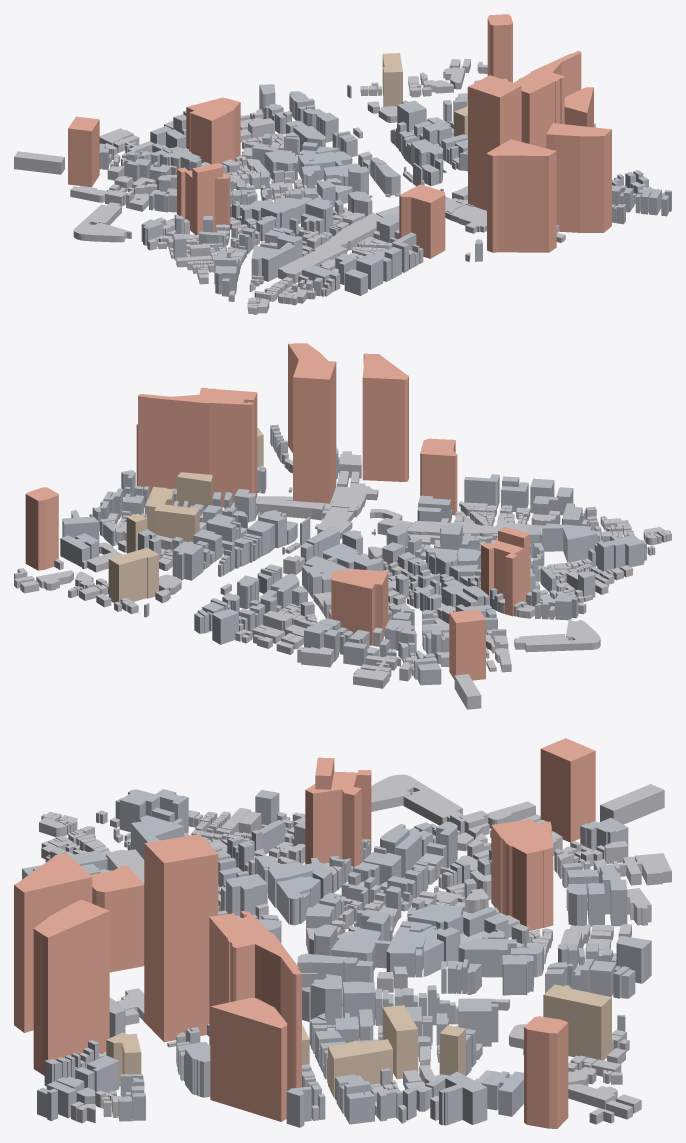
File: shibuya_buildings.glb
3 views of the same model, one above another, from view 1: azimuth 30°, elevation 25°; view 2: azimuth 150°, elevation 25°; view 3: azimuth 270°, elevation 25° (orthographic). The views are drawn at different scales.
Parts seen in each view (by area): view 1: Shibuya_Buildings; view 2: Shibuya_Buildings; view 3: Shibuya_Buildings.
Boxes of the visible parts, <box> form: Shibuya_Buildings: <box>14,14,671,314</box>; Shibuya_Buildings: <box>14,343,671,709</box>; Shibuya_Buildings: <box>14,738,671,1128</box>.
Size of the model in its own units: 949 by 230 by 765.
